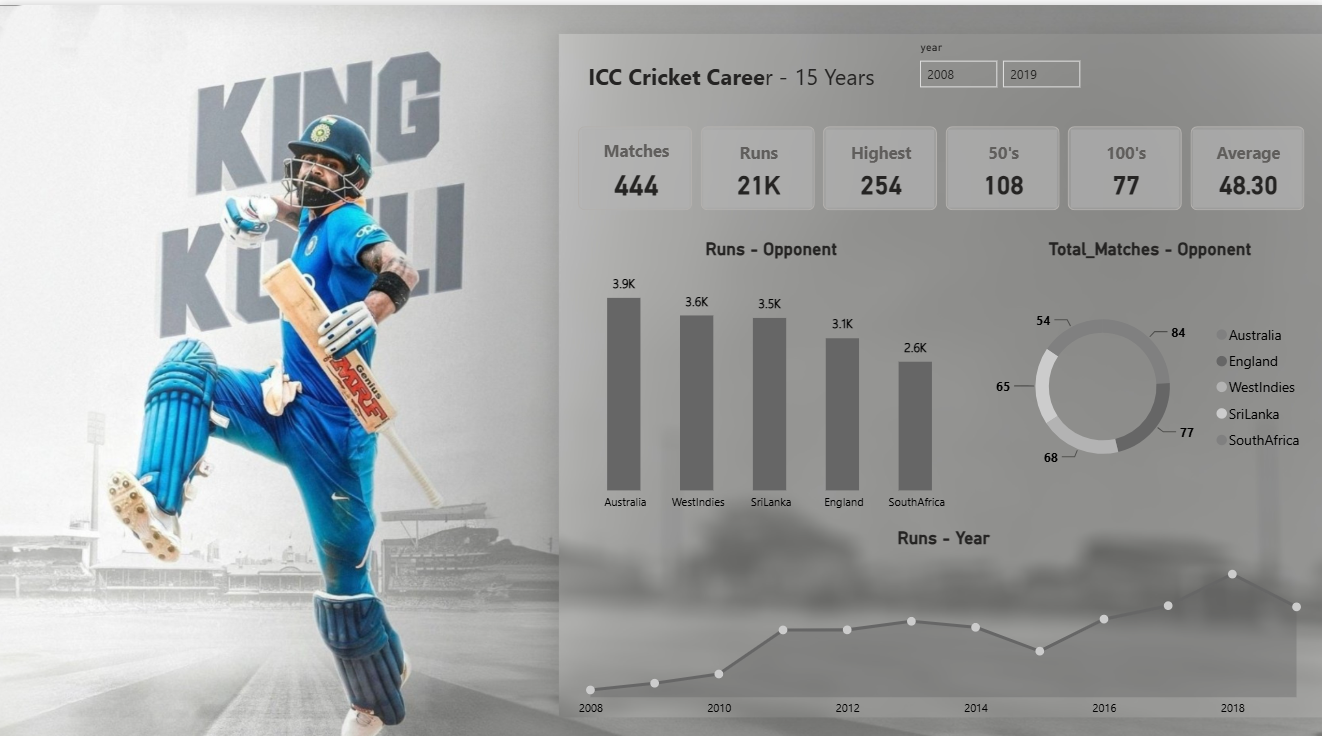

Layout of this report page (visuals, bound fields, positions):
{"tool":"powerbi","page":{"name":"DashBoard","canvas":[1280,720],"ordinal":0},"visuals":[{"type":"cardVisual","fields":{"Data":["Measures_Table.Total_Matches","Measures_Table.Runs","Measures_Table.HighestScore","Measures_Table.50s","Measures_Table.100s","Avg(Virat_Kohli.runs)"]},"box":[554.3,111.5,714.6,91.8],"z":0},{"type":"columnChart","title":"Runs - Opponent","fields":{"Category":["Virat_Kohli.opponent"],"Y":["Measures_Table.Runs"]},"box":[554.3,225.4,382.3,270.7],"z":1000},{"type":"donutChart","title":"Total_Matches - Opponent","fields":{"Category":["Virat_Kohli.opponent"],"Y":["Measures_Table.Total_Matches"]},"box":[951.6,225.4,317.2,270.7],"z":2000},{"type":"stackedAreaChart","title":"Runs - Year","fields":{"Category":["Calender.year"],"Y":["Measures_Table.Runs"]},"box":[554.3,503.1,714.6,191.7],"z":3000},{"type":"slicer","fields":{"Values":["Calender.year"]},"box":[876.1,29,392.7,82.5],"z":4000},{"type":"textbox","box":[563.5,50,233.6,41.8],"z":5000},{"type":"textbox","box":[598.4,70.9,60.4,40.7],"z":6000},{"type":"textbox","box":[640.2,70.9,105.7,29],"z":7000},{"type":"textbox","box":[762.2,50,174.3,50],"z":8000}]}

Visuals, with their boxes in screenshot pixels (x1, y1, x2, y2), scaled from the page's 1280x720 canvas onto the 1322x736 screenshot:
cardVisual - Measures_Table.Total_Matches x Measures_Table.Runs: select_region(572, 114, 1311, 208)
"Runs - Opponent" columnChart: select_region(572, 230, 967, 507)
"Total_Matches - Opponent" donutChart: select_region(983, 230, 1310, 507)
"Runs - Year" stackedAreaChart: select_region(572, 514, 1311, 710)
slicer - Calender.year: select_region(905, 30, 1310, 114)
textbox: select_region(582, 51, 823, 94)
textbox: select_region(618, 72, 680, 114)
textbox: select_region(661, 72, 770, 102)
textbox: select_region(787, 51, 967, 102)
